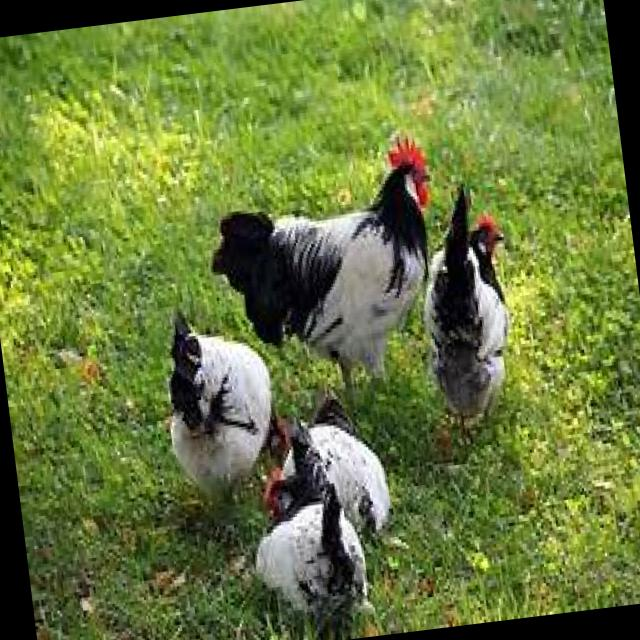animal: (200, 135, 456, 429), (408, 177, 530, 443), (151, 308, 290, 512), (256, 414, 395, 550), (248, 495, 374, 637)
